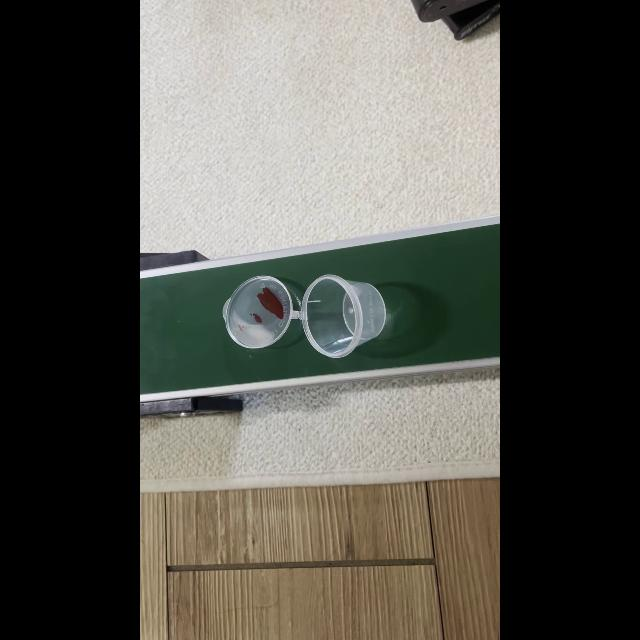dirty: (233, 277, 379, 347)
